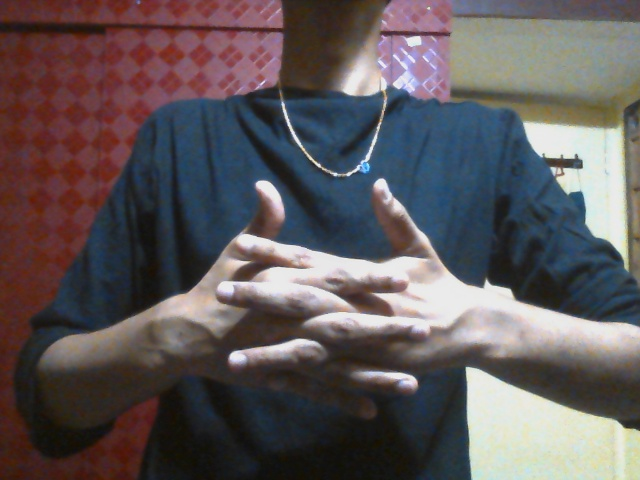W: (181, 178, 458, 423)
